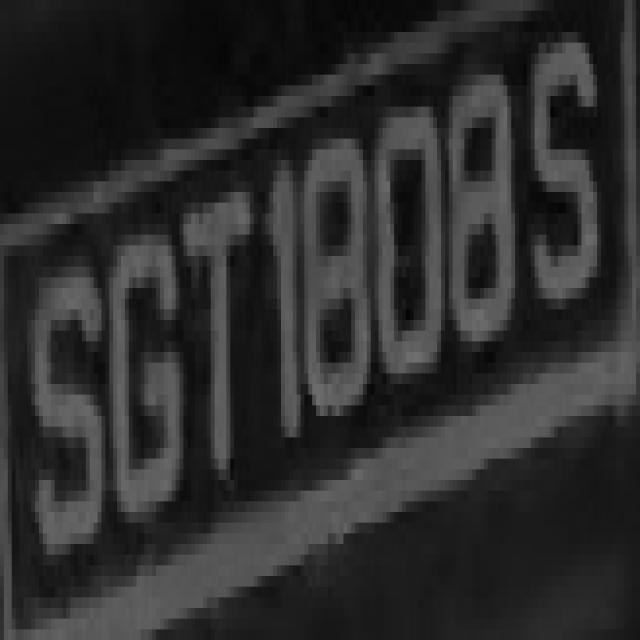0: (363, 42, 449, 458)
1: (258, 128, 312, 469)
8: (441, 64, 523, 395), (296, 85, 366, 459)
G: (101, 202, 188, 554)
S: (523, 21, 617, 384), (20, 245, 94, 587)
T: (176, 149, 266, 480)
